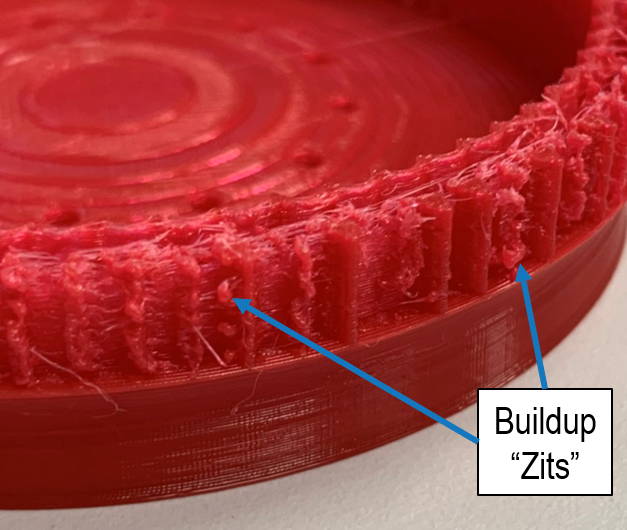blob: (1, 273, 97, 378), (115, 282, 200, 360), (387, 213, 438, 307), (205, 276, 246, 374), (565, 144, 601, 225), (499, 189, 533, 267), (298, 253, 327, 311)
